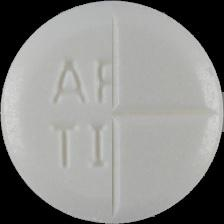50090-0841: (0, 0, 224, 224)
